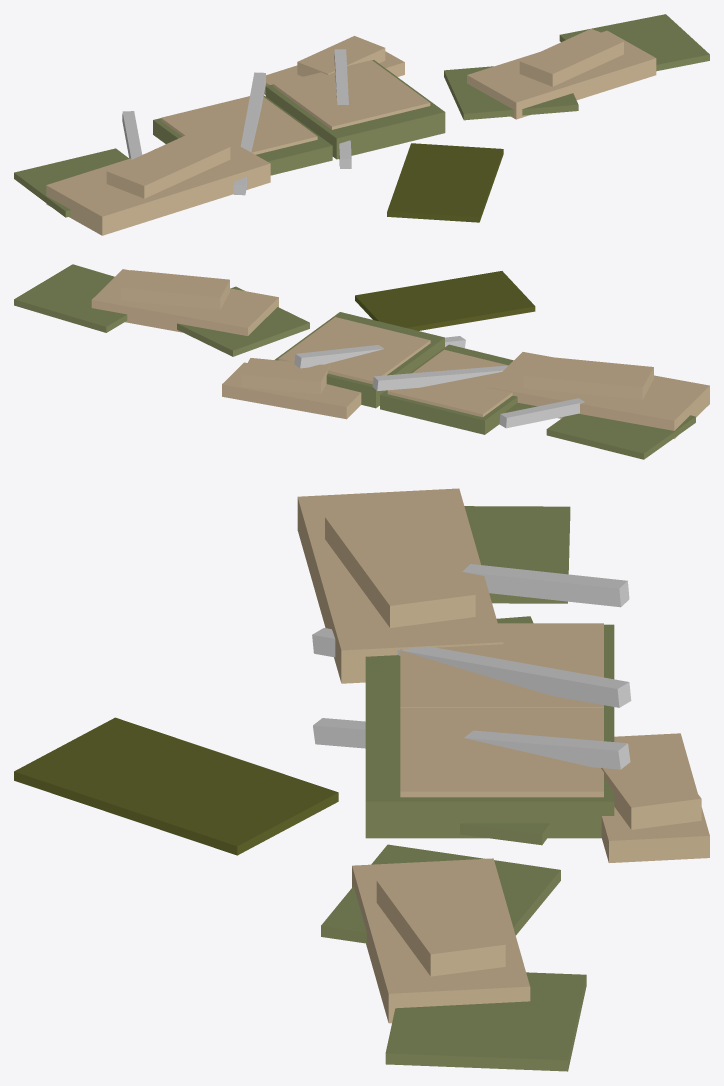
Rendered from SM_HescoCorto3_v4_Red_e3_Brecha_LOD1.fbx.
3 renders of one model, top to bottom at view 1: azimuth 30°, elevation 25°; view 2: azimuth 150°, elevation 25°; view 3: azimuth 270°, elevation 25°, orthographic. The views are drawn at different scales.
Parts seen in each view (by area): view 1: SM_hesco_piezas_v99_LOD1; view 2: SM_hesco_piezas_v99_LOD1; view 3: SM_hesco_piezas_v99_LOD1.
Boxes of the visible parts, x1,y1,x2,y2 form: SM_hesco_piezas_v99_LOD1: [14, 14, 709, 235]; SM_hesco_piezas_v99_LOD1: [14, 264, 709, 459]; SM_hesco_piezas_v99_LOD1: [14, 488, 709, 1071].
Size of the model in its own units: 6.44 by 0.351 by 3.42.
